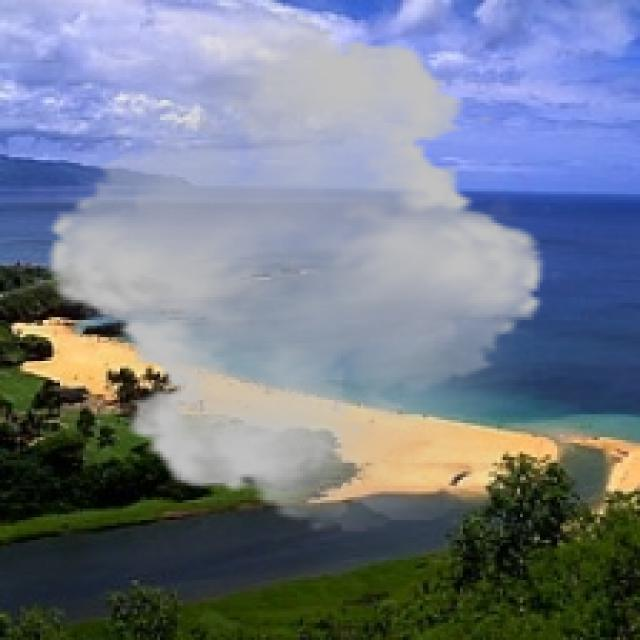Smoke: (25, 0, 566, 532)
